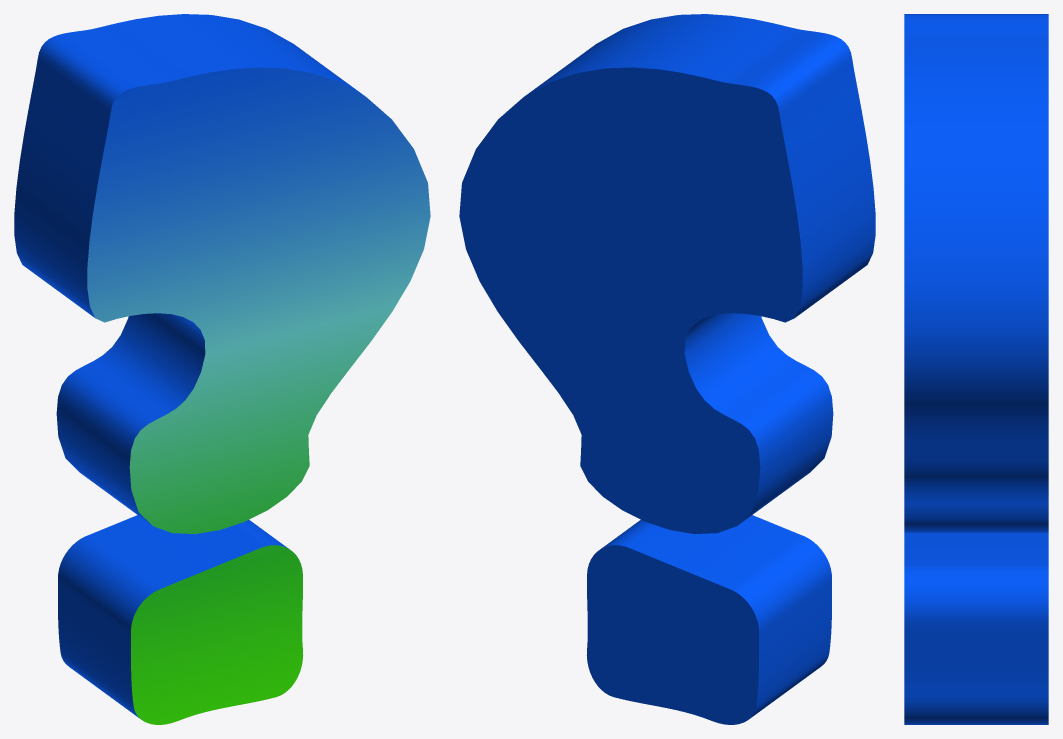
File: Question.FBX
The picture shows the model from 3 angles, left to right: view 1: azimuth 30°, elevation 25°; view 2: azimuth 150°, elevation 25°; view 3: azimuth 270°, elevation 25°; orthographic projection.
Visible parts, largest first — view 1: Question; view 2: Question; view 3: Question.
Boxes of the visible parts, box(x1,y1,x2,y2) form: Question: box(14, 14, 430, 724); Question: box(459, 14, 875, 724); Question: box(904, 14, 1048, 724).
Bounding box in the file's own units: 54.25 × 97.37 × 20.
2 materials, 1 textured.
